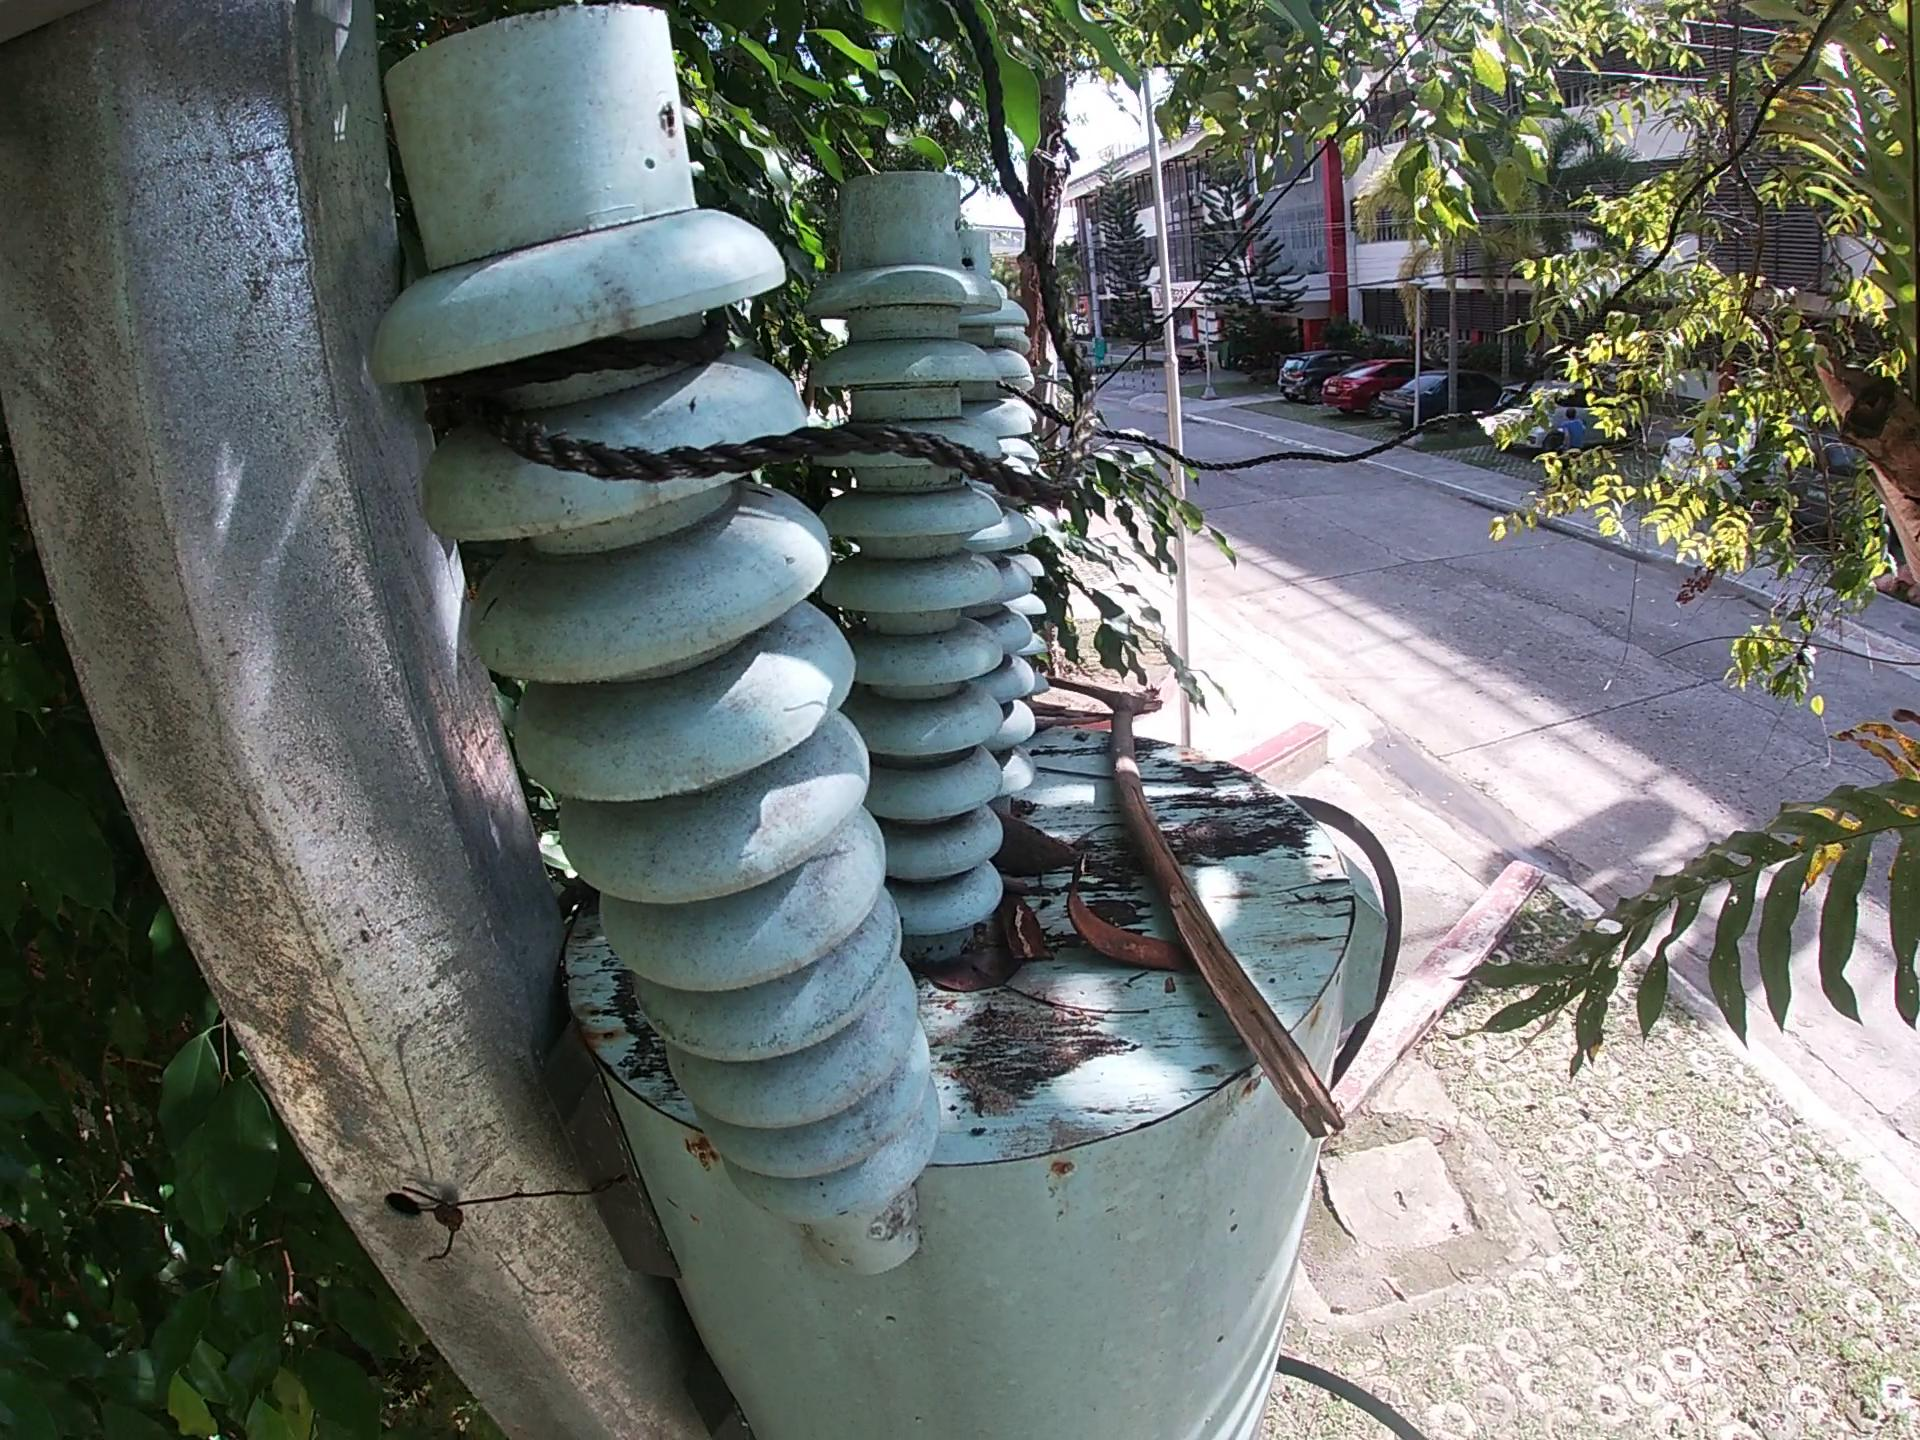leaf: (940, 933, 1027, 995)
mahogany fruit: (1064, 830, 1187, 982), (998, 814, 1079, 871)
tree branch: (1052, 673, 1342, 1141), (992, 989, 1155, 1035), (1146, 756, 1256, 790), (1037, 697, 1107, 746), (1008, 892, 1052, 968), (1037, 761, 1107, 784)
